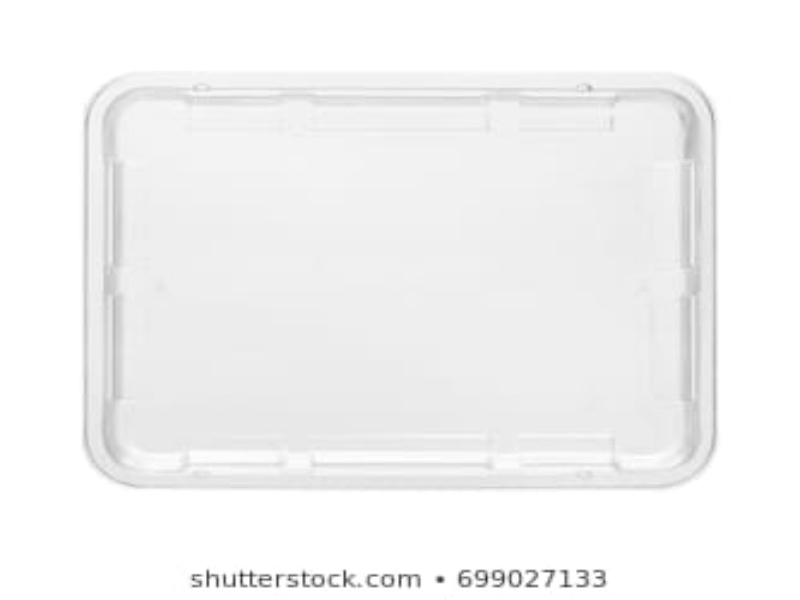plastic-tray: (74, 63, 733, 500)
